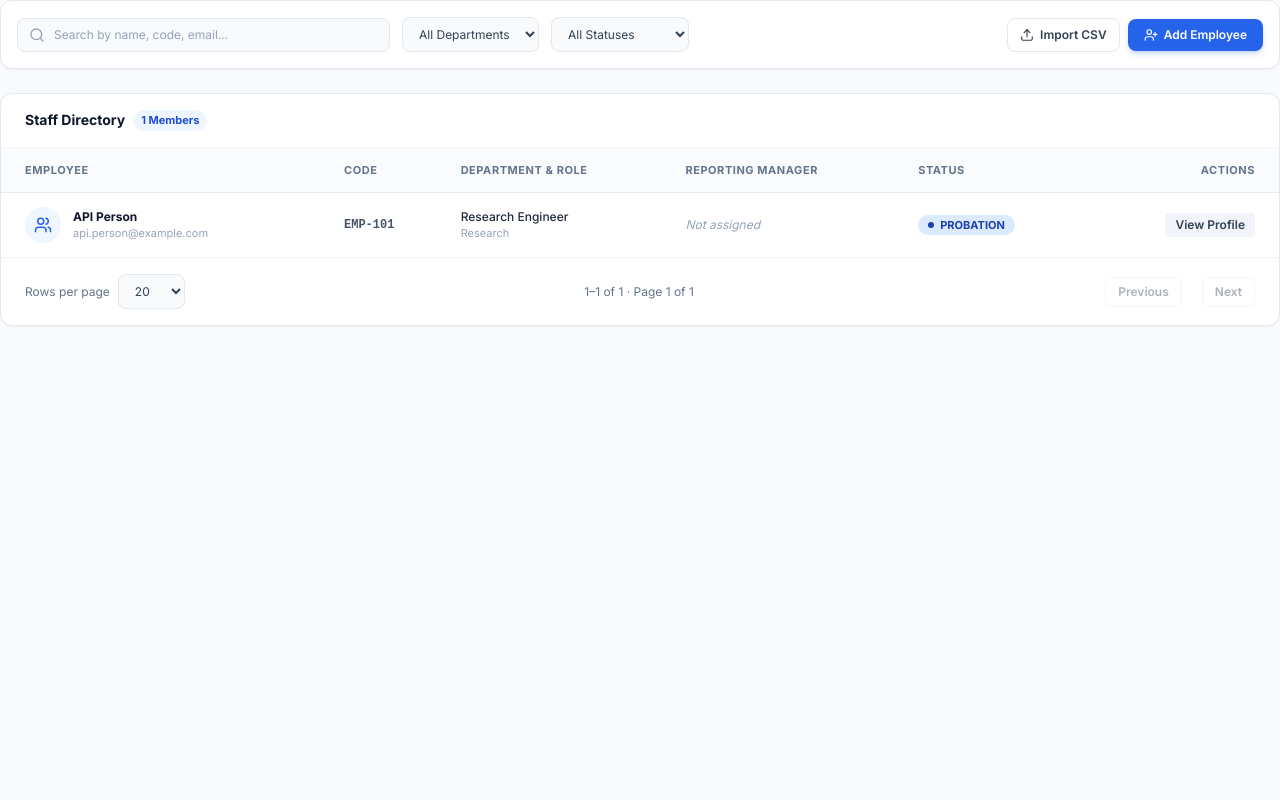
Test: Real read-only Employees directory › opens real creation lookups without changing directory data or posting immediately
Check: the text "API Person" is shown, box [73, 209, 137, 224]
Click the button "Add Employee". click: x=1195, y=34
box: [1128, 18, 1263, 50]
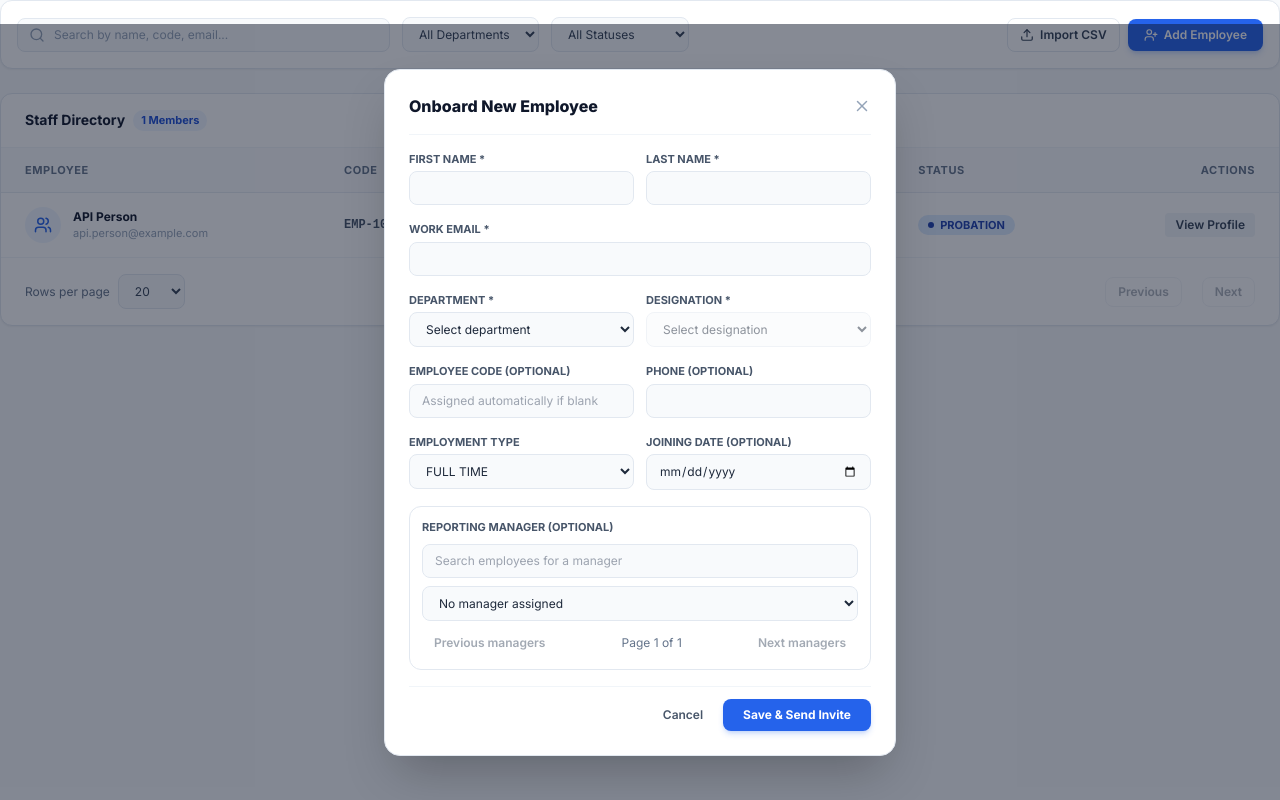
Check: the field labelled "First Name *" is empty, box [409, 171, 634, 205]
Check: the dialog "Onboard New Employee" is shown, box [384, 68, 896, 756]
